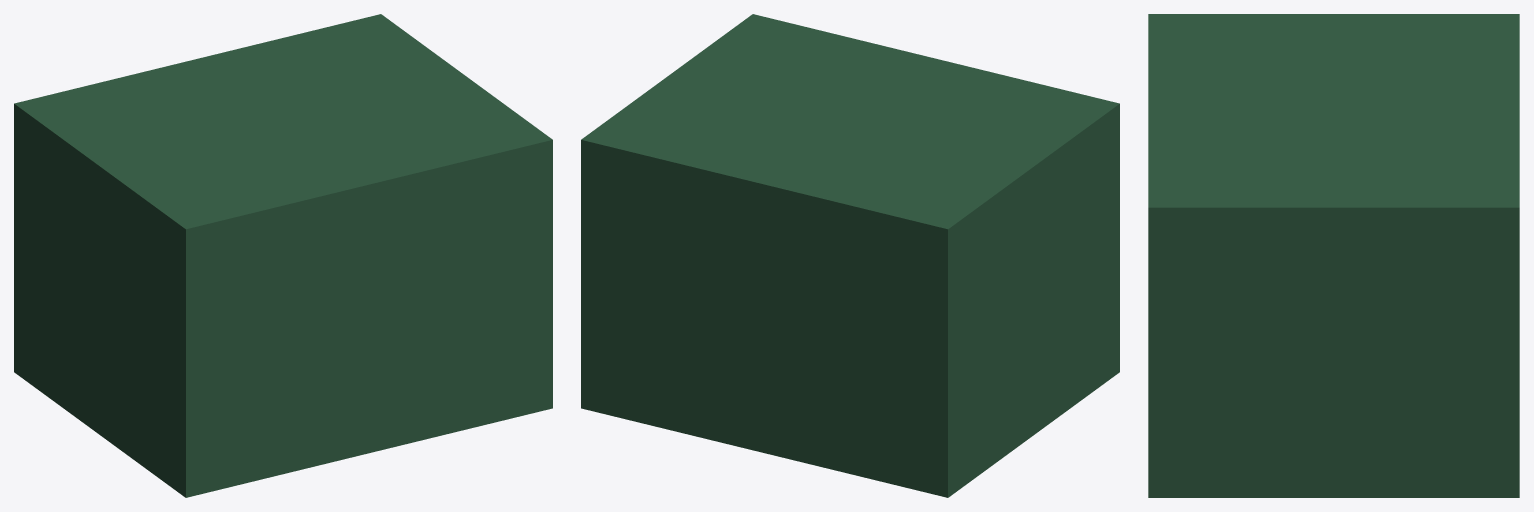
File: terrain_bush_tall_lod2.glb
The picture shows the model from 3 angles, left to right: view 1: azimuth 30°, elevation 25°; view 2: azimuth 150°, elevation 25°; view 3: azimuth 270°, elevation 25°; orthographic projection. The views are drawn at different scales.
Visible parts, largest first — view 1: terrain_bush_tall_lod2; view 2: terrain_bush_tall_lod2; view 3: terrain_bush_tall_lod2.
Boxes of the visible parts, left/top/right/bottom form: terrain_bush_tall_lod2: left=14, top=14, right=552, bottom=497; terrain_bush_tall_lod2: left=581, top=14, right=1119, bottom=497; terrain_bush_tall_lod2: left=1148, top=14, right=1519, bottom=497.
Size of the model in its own units: 2.96 by 2.07 by 2.4.
